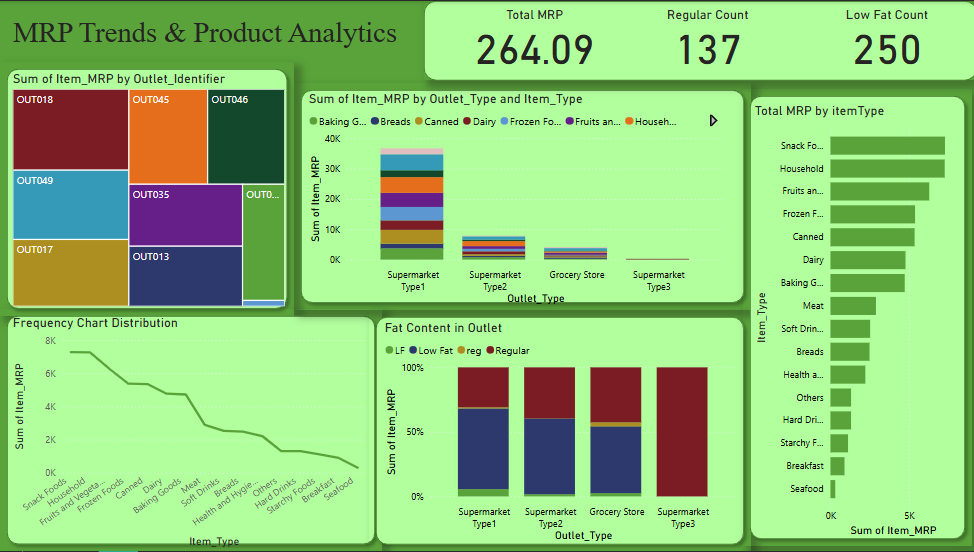

This screenshot's page, from the dashboard's own definition file:
{"tool":"powerbi","page":{"name":"Page 1","canvas":[1280,720],"ordinal":0},"visuals":[{"type":"shape","box":[0,79.3,385,332.1],"z":0},{"type":"shape","box":[0,402.6,499.6,317.4],"z":1000},{"type":"shape","box":[385,107.3,598,296.8],"z":2000},{"type":"shape","box":[483.4,404.1,499.6,315.9],"z":3000},{"type":"shape","box":[972.7,114.6,299.8,598],"z":4000},{"type":"shape","box":[555.4,0,724.4,104.3],"z":5000},{"type":"barChart","title":"Total MRP by itemType","fields":{"Category":["Test.Item_Type"],"Y":["Sum(Test.Item_MRP)"]},"box":[983,133.7,280.7,571.6],"z":6000},{"type":"columnChart","fields":{"Category":["Test.Outlet_Type"],"Y":["Sum(Test.Item_MRP)"],"Series":["Test.Item_Type"]},"box":[399.7,117.6,554,285.1],"z":7000},{"type":"treemap","fields":{"Details":["Test.Outlet_Identifier"],"Values":["Sum(Test.Item_MRP)"]},"box":[11.8,91.1,365.9,313],"z":8000},{"type":"lineChart","title":"Frequency Chart Distribution","fields":{"Y":["Sum(Test.Item_MRP)"],"Category":["Test.Item_Type"]},"box":[11.8,411.4,471.7,308.6],"z":9000},{"type":"hundredPercentStackedColumnChart","title":"Fat Content in Outlet","fields":{"Series":["Test.Item_Fat_Content"],"Y":["Sum(Test.Item_MRP)"],"Category":["Test.Outlet_Type"]},"box":[498.1,417.3,470.2,295.3],"z":10000},{"type":"textbox","box":[11.4,14.3,543.5,64.4],"z":11000},{"type":"kpi","title":"Total MRP ","fields":{"Indicator":["Test.Average MRP"],"TrendLine":["Test.Item_MRP"]},"box":[602.4,7.3,195.4,89.6],"z":12000},{"type":"kpi","title":"Regular Count ","fields":{"Indicator":["Test.Regular Count"],"TrendLine":["Test.Item_Fat_Content"]},"box":[815.5,7.3,221.9,89.6],"z":13000},{"type":"kpi","title":"Low Fat Count ","fields":{"Indicator":["Test.Low Fat Count"],"TrendLine":["Test.Item_Fat_Content"]},"box":[1059.4,7.3,204.2,89.6],"z":14000}]}

Visuals, with their boxes in screenshot pixels (x1, y1, x2, y2), scaled from the page's 1280x720 canvas onto the 974x552 screenshot:
shape: detection(0, 61, 293, 315)
shape: detection(0, 309, 380, 551)
shape: detection(293, 82, 748, 310)
shape: detection(368, 310, 748, 551)
shape: detection(740, 88, 968, 546)
shape: detection(423, 0, 973, 80)
"Total MRP by itemType" barChart: detection(748, 103, 962, 541)
columnChart - Test.Outlet_Type x Sum(Test.Item_MRP): detection(304, 90, 726, 309)
treemap - Test.Outlet_Identifier x Sum(Test.Item_MRP): detection(9, 70, 287, 310)
"Frequency Chart Distribution" lineChart: detection(9, 315, 368, 551)
"Fat Content in Outlet" hundredPercentStackedColumnChart: detection(379, 320, 737, 546)
textbox: detection(9, 11, 422, 60)
"Total MRP " kpi: detection(458, 6, 607, 74)
"Regular Count " kpi: detection(621, 6, 789, 74)
"Low Fat Count " kpi: detection(806, 6, 962, 74)
